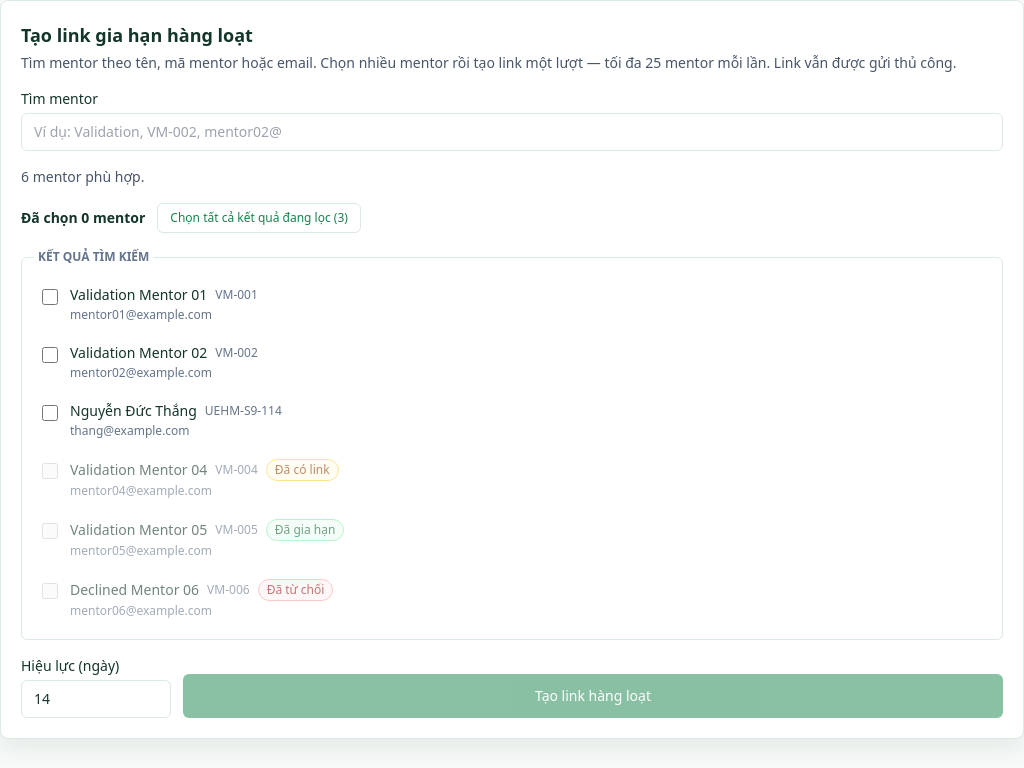
Test: M075 picker — search › filters by partial name
The width and height of the screenshot is (1024, 768).
Type "Mentor 02" into the search field labelled "Tìm mentor" at coordinates (512, 132), box [21, 113, 1003, 151]
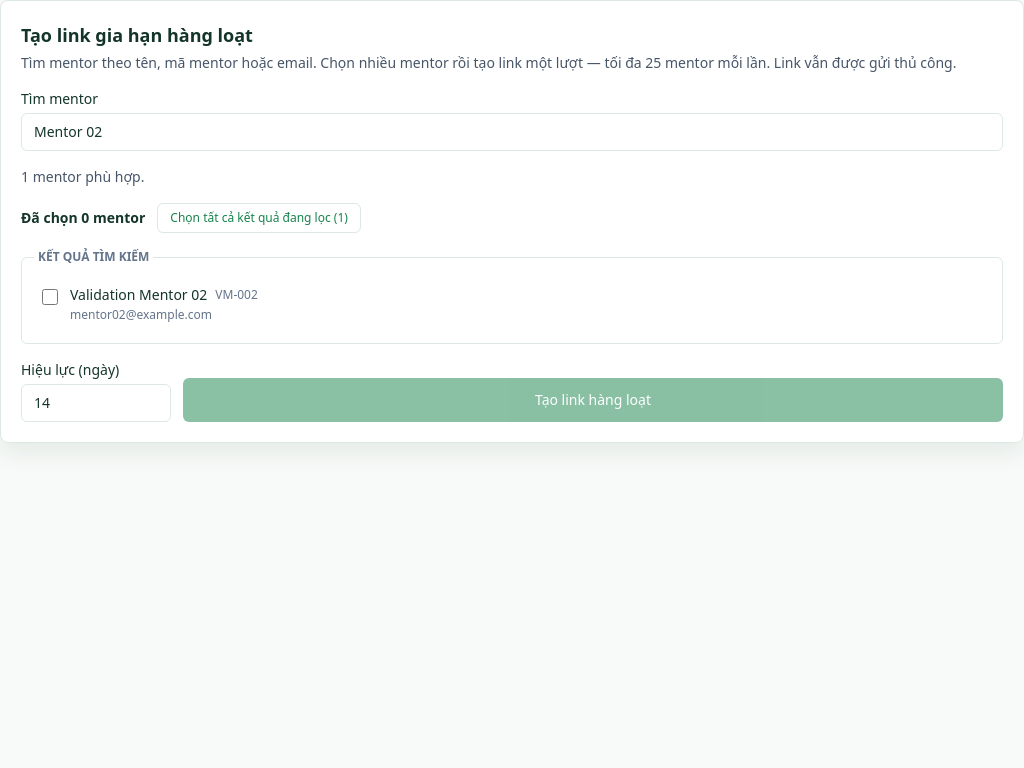
Check: the text "Validation Mentor 02" is shown, box [70, 285, 207, 305]
Check: the text "Validation Mentor 01" is gone
